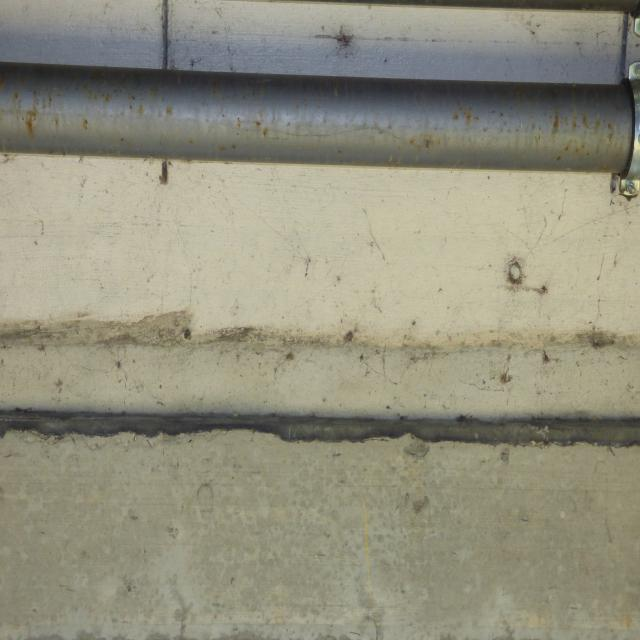corrosion: (0, 62, 640, 196)
